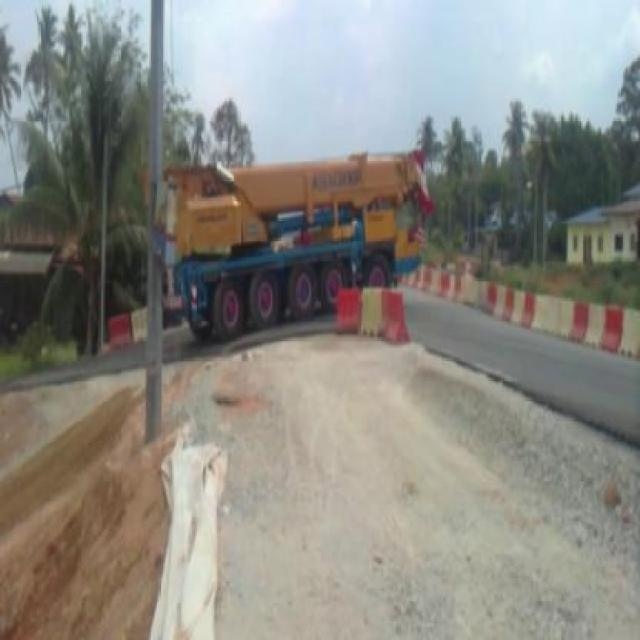Mobile Crane: (175, 140, 427, 312)
